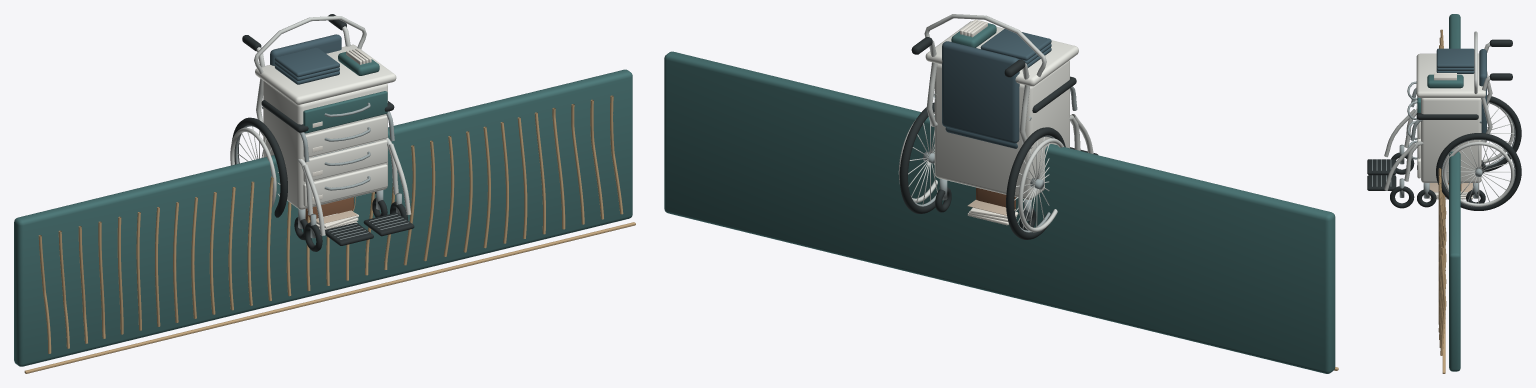
File: department-props.glb
3 renders of one model, left to right at view 1: azimuth 30°, elevation 25°; view 2: azimuth 150°, elevation 25°; view 3: azimuth 270°, elevation 25°, orthographic. The views are drawn at different scales.
Parts seen in each view (by area): view 1: WaveRelief_Deep petrol enamel, WaveRelief_Anodised champagne, ClinicalTrolley_Warm ceramic enamel, Wheelchair_Textured graphite rubber, Wheelchair_Brushed stainless steel, ClinicalTrolley_Deep petrol enamel, ClinicalTrolley_Woven navy upholstery, Wheelchair_Satin anodised aluminium, ClinicalTrolley_Satin anodised aluminium, Wheelchair_Woven navy upholstery, ClinicalTrolley_Brushed stainless steel, LeatherBag_Cognac leather; view 2: WaveRelief_Deep petrol enamel, ClinicalTrolley_Warm ceramic enamel, Wheelchair_Woven navy upholstery, Wheelchair_Brushed stainless steel, Wheelchair_Textured graphite rubber, ClinicalTrolley_Woven navy upholstery, ClinicalTrolley_Brushed stainless steel, Wheelchair_Satin anodised aluminium; view 3: ClinicalTrolley_Warm ceramic enamel, Wheelchair_Textured graphite rubber, Wheelchair_Brushed stainless steel, WaveRelief_Deep petrol enamel, WaveRelief_Anodised champagne, ClinicalTrolley_Woven navy upholstery, Wheelchair_Satin anodised aluminium, ClinicalTrolley_Deep petrol enamel, ClinicalTrolley_Satin anodised aluminium, ClinicalTrolley_Textured graphite rubber, Wheelchair_Woven navy upholstery, ClinicalTrolley_Brushed stainless steel (+2 smaller).
Boxes of the visible parts, <box> form: WaveRelief_Deep petrol enamel: <box>14,69,632,366</box>; WaveRelief_Anodised champagne: <box>24,95,635,373</box>; ClinicalTrolley_Warm ceramic enamel: <box>255,44,396,209</box>; Wheelchair_Textured graphite rubber: <box>232,14,414,251</box>; Wheelchair_Brushed stainless steel: <box>230,26,411,235</box>; ClinicalTrolley_Deep petrol enamel: <box>303,52,387,133</box>; ClinicalTrolley_Woven navy upholstery: <box>274,47,339,84</box>; Wheelchair_Satin anodised aluminium: <box>235,106,408,239</box>; ClinicalTrolley_Satin anodised aluminium: <box>298,102,383,228</box>; Wheelchair_Woven navy upholstery: <box>270,34,373,157</box>; ClinicalTrolley_Brushed stainless steel: <box>254,16,366,73</box>; LeatherBag_Cognac leather: <box>305,197,353,221</box>; WaveRelief_Deep petrol enamel: <box>664,51,1335,373</box>; ClinicalTrolley_Warm ceramic enamel: <box>925,21,1078,199</box>; Wheelchair_Woven navy upholstery: <box>942,41,1019,148</box>; Wheelchair_Brushed stainless steel: <box>898,40,1093,232</box>; Wheelchair_Textured graphite rubber: <box>899,37,1097,239</box>; ClinicalTrolley_Woven navy upholstery: <box>980,29,1051,67</box>; ClinicalTrolley_Brushed stainless steel: <box>924,14,1046,76</box>; Wheelchair_Satin anodised aluminium: <box>911,86,1077,232</box>; ClinicalTrolley_Warm ceramic enamel: <box>1416,53,1485,182</box>; Wheelchair_Textured graphite rubber: <box>1367,39,1521,210</box>; Wheelchair_Brushed stainless steel: <box>1384,42,1514,206</box>; WaveRelief_Deep petrol enamel: <box>1449,14,1460,371</box>; WaveRelief_Anodised champagne: <box>1438,29,1446,373</box>; ClinicalTrolley_Woven navy upholstery: <box>1436,48,1474,73</box>; Wheelchair_Satin anodised aluminium: <box>1372,88,1515,197</box>; ClinicalTrolley_Deep petrol enamel: <box>1417,74,1463,112</box>; ClinicalTrolley_Satin anodised aluminium: <box>1407,81,1478,198</box>; ClinicalTrolley_Textured graphite rubber: <box>1417,160,1485,207</box>; Wheelchair_Woven navy upholstery: <box>1479,49,1486,133</box>; ClinicalTrolley_Brushed stainless steel: <box>1474,31,1477,93</box>.
Size of the model in its own units: 3.95 by 1.64 by 1.07.
